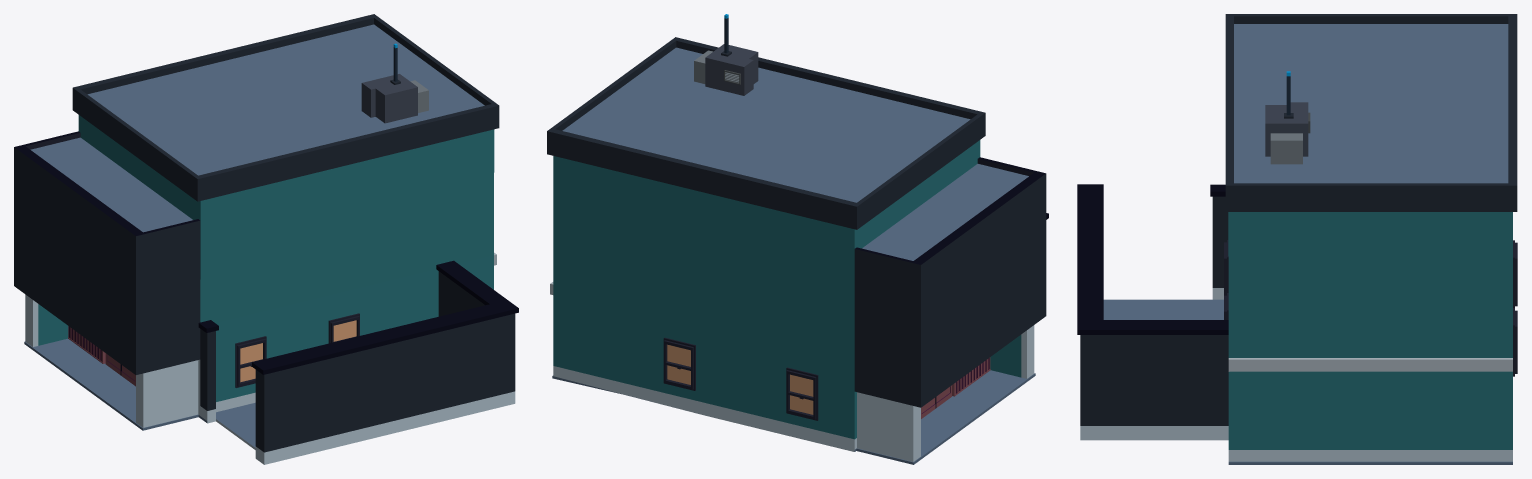
File: Building_TownOffice.fbx
3 views of the same model, side by side, from view 1: azimuth 30°, elevation 25°; view 2: azimuth 150°, elevation 25°; view 3: azimuth 270°, elevation 25° (orthographic). The views are drawn at different scales.
Visible parts, largest first — view 1: Cube.450; view 2: Cube.450; view 3: Cube.450.
Part boxes in pixels (bbox=[...]): Cube.450: bbox=[14, 14, 518, 464]; Cube.450: bbox=[547, 14, 1048, 464]; Cube.450: bbox=[1077, 14, 1517, 464].
Size of the model in its own units: 1173 by 933 by 1060.
